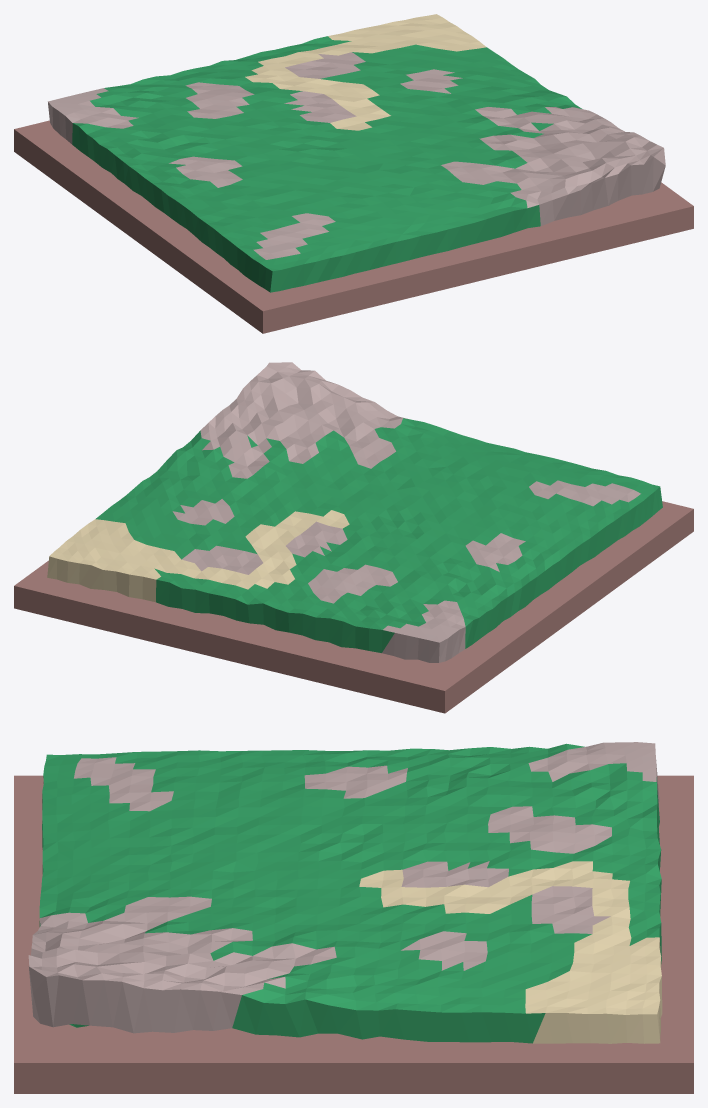
Rendered from mapSmoothDark.fbx.
3 views of the same model, one above another, from view 1: azimuth 30°, elevation 25°; view 2: azimuth 150°, elevation 25°; view 3: azimuth 270°, elevation 25° (orthographic). The views are drawn at different scales.
Visible parts, largest first — view 1: Grass, Ground; view 2: Grass, Ground; view 3: Grass, Ground.
Boxes of the visible parts, x1,y1,x2,y2 form: Grass: [48, 14, 665, 292]; Ground: [14, 120, 693, 333]; Grass: [47, 362, 662, 662]; Ground: [14, 501, 693, 713]; Grass: [28, 742, 662, 1043]; Ground: [14, 775, 693, 1093].
Bounding box in the file's own units: 2000 × 341 × 2000.
